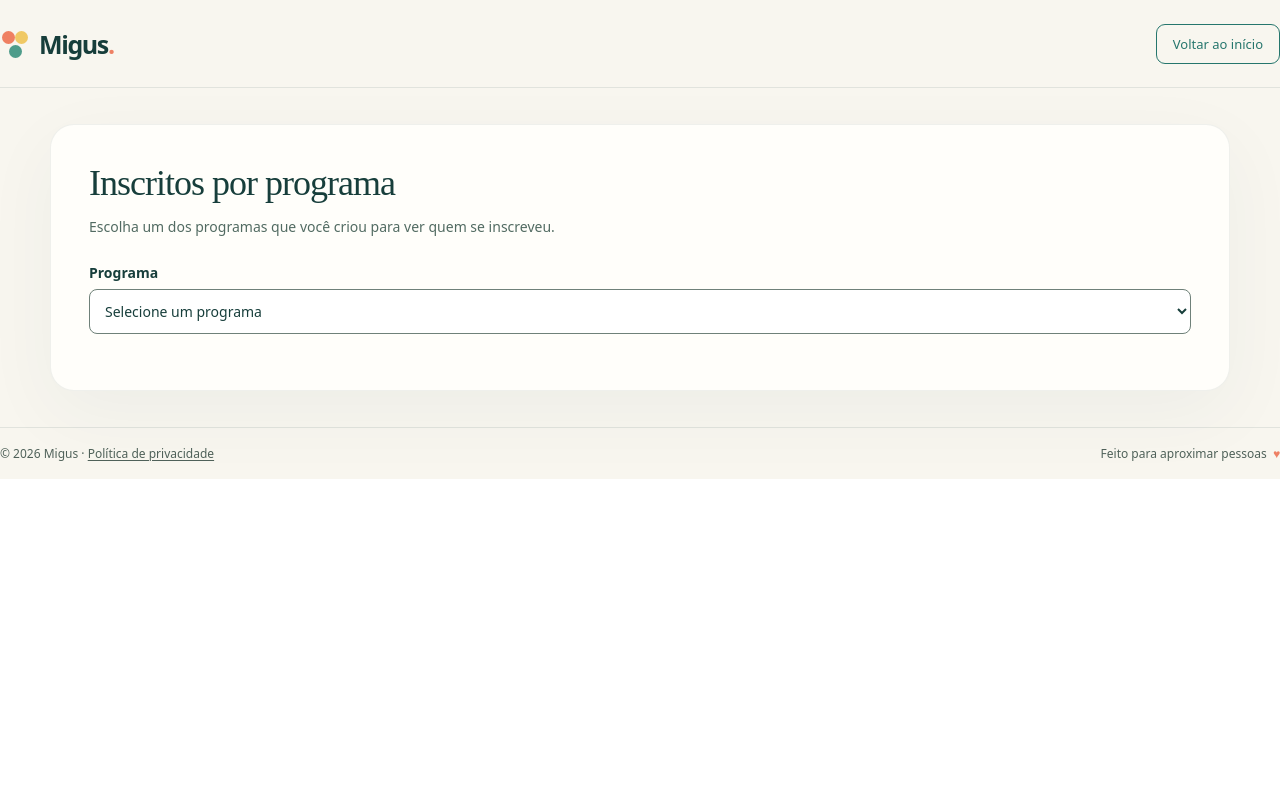
it: inativa após a confirmação, atualiza a situação e informa o sucesso
Select "Minha horta" in the dropdown at (640, 311), box [89,289,1191,334]
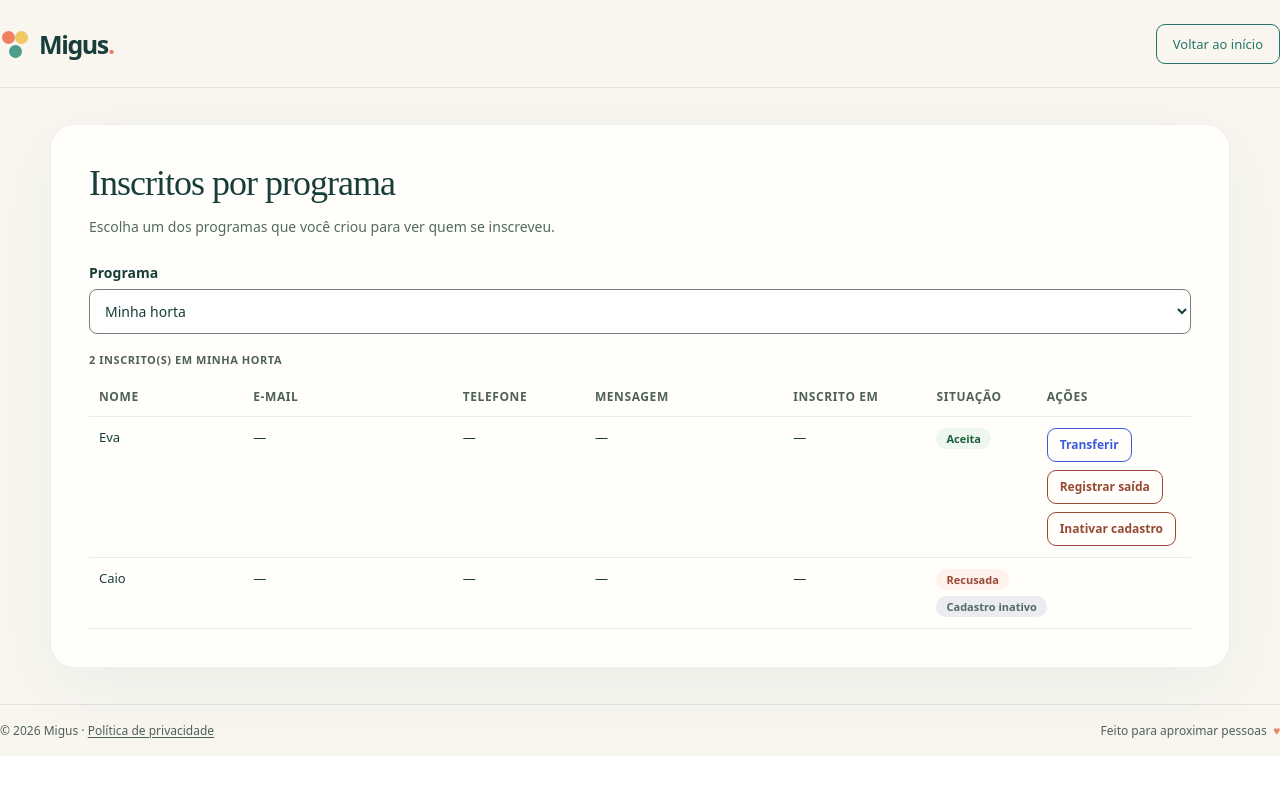
Check: the row "Eva" is shown, box [89,416,1191,557]
Click the button with aria-label "Inativar cadastro de Eva" at (1111, 529), box [1047,512,1176,546]
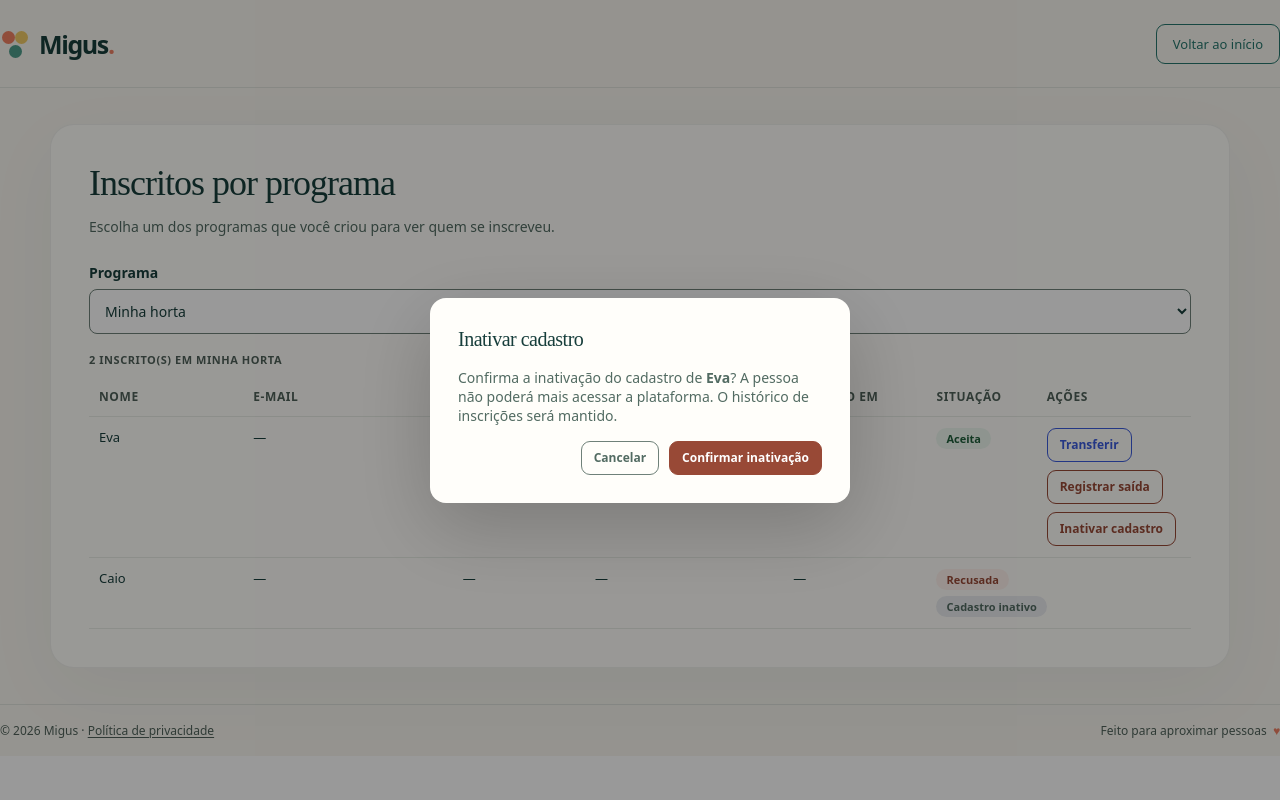
Click the button "Confirmar inativação" at (746, 458), box [669,440,822,474]
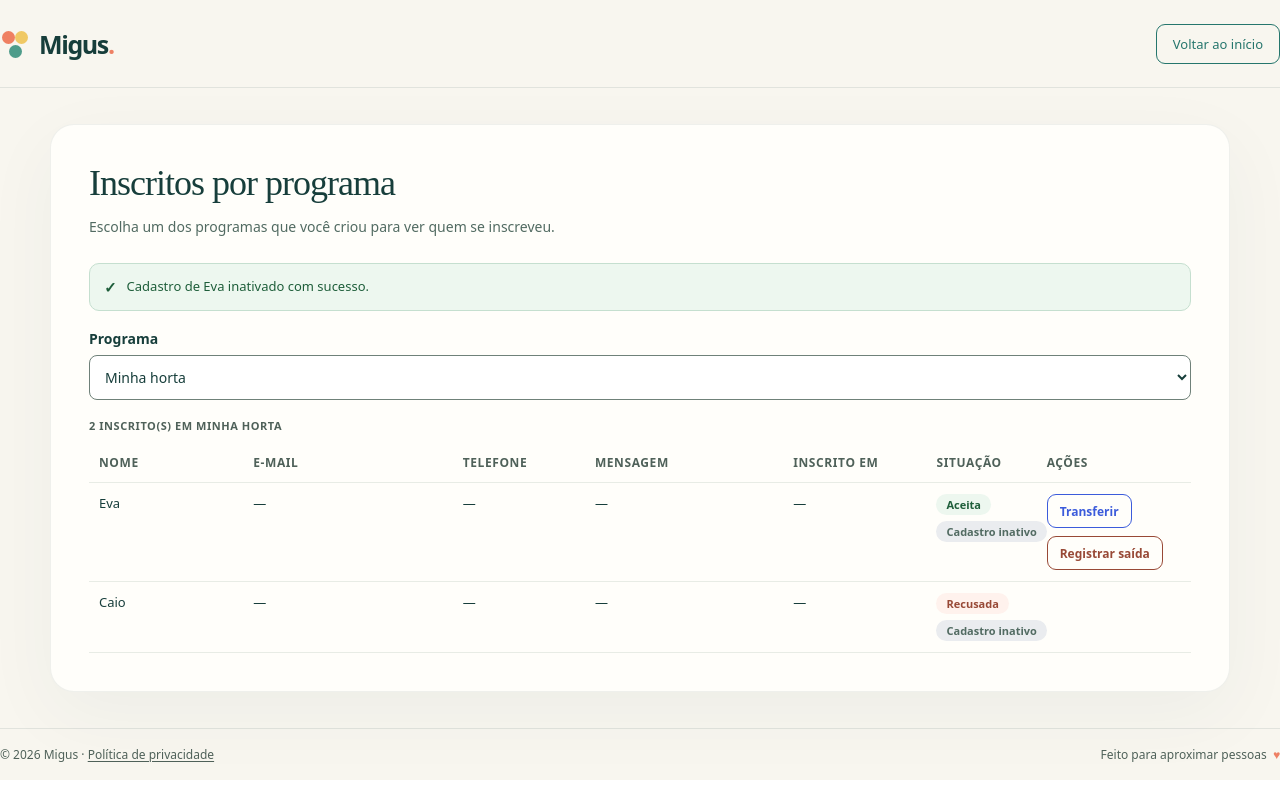
Check: the text "Cadastro de Eva inativado com sucesso." is shown, box [127,277,369,295]
Check: the dialog is gone
Check: the text "Cadastro inativo" below "Aceita" is shown, box [946,524,1037,539]
